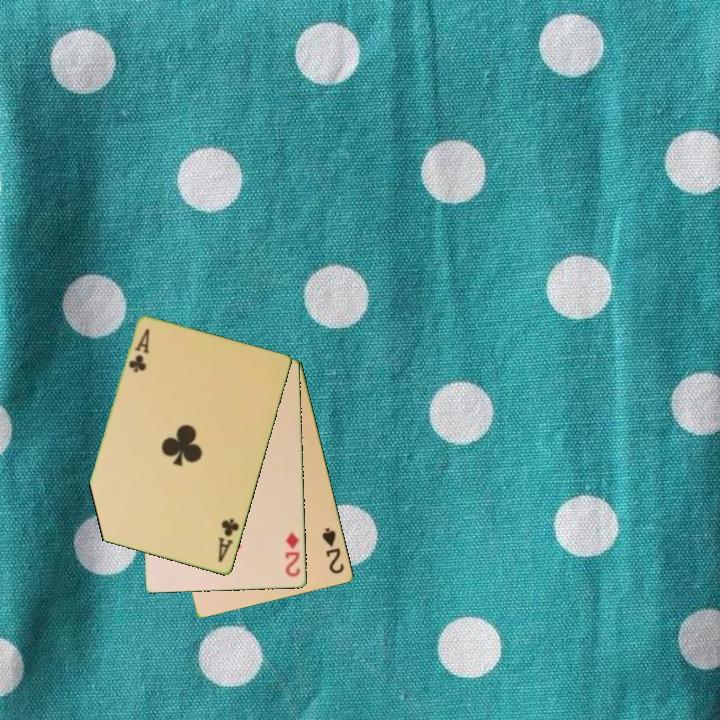2d: (282, 529, 303, 580)
2s: (319, 524, 347, 577)
Ac: (125, 326, 153, 376), (215, 515, 242, 565)
